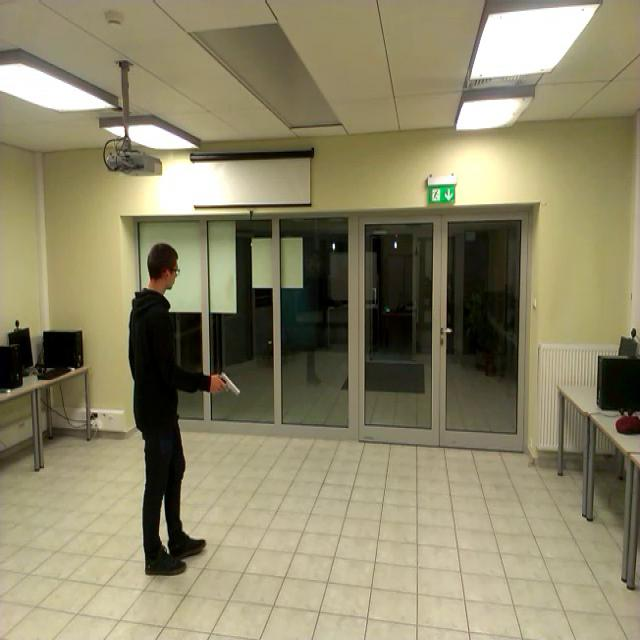handgun: (212, 366, 240, 406)
